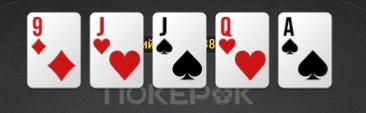9d: (28, 14, 79, 86)
As: (280, 14, 331, 85)
Jh: (90, 14, 143, 89)
Js: (154, 14, 207, 88)
Qh: (216, 13, 269, 86)
